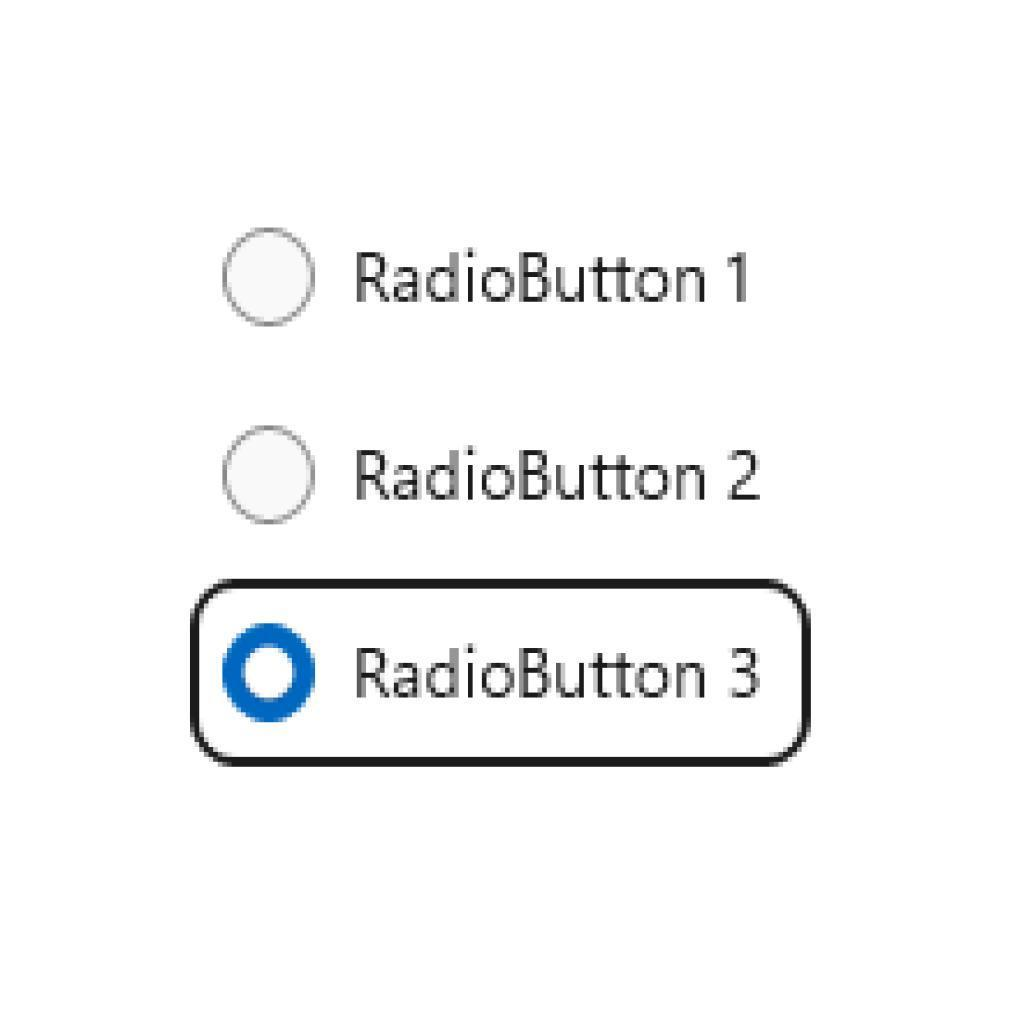radio: (212, 207, 323, 357), (212, 405, 323, 539), (221, 616, 329, 731)
